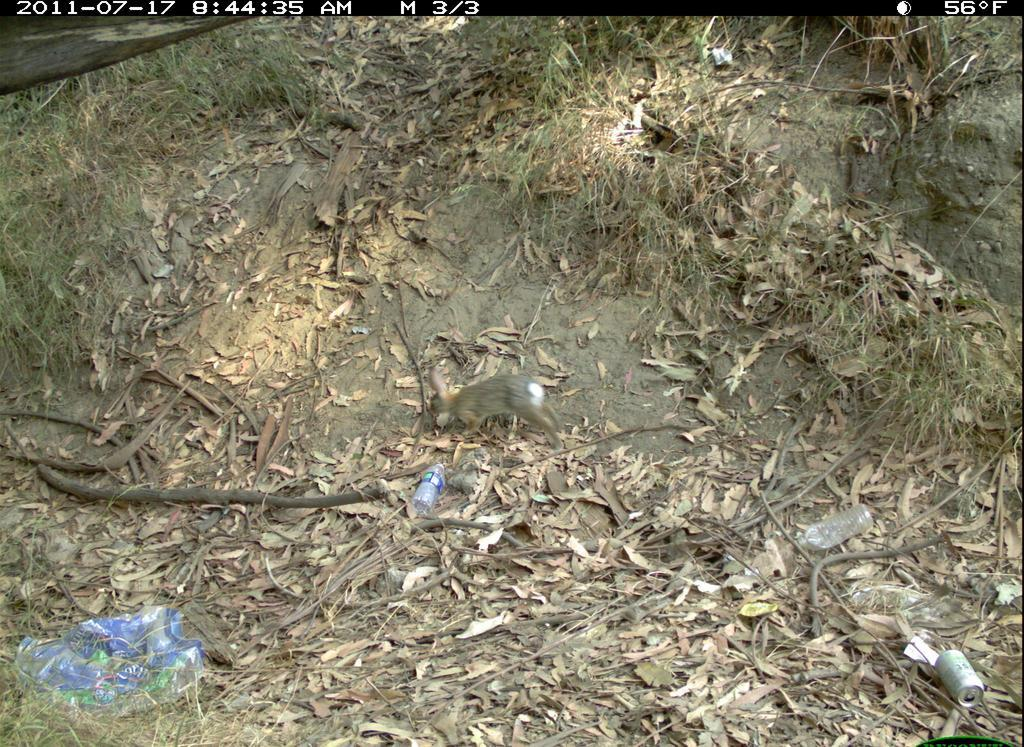rabbit: (425, 359, 568, 450)
